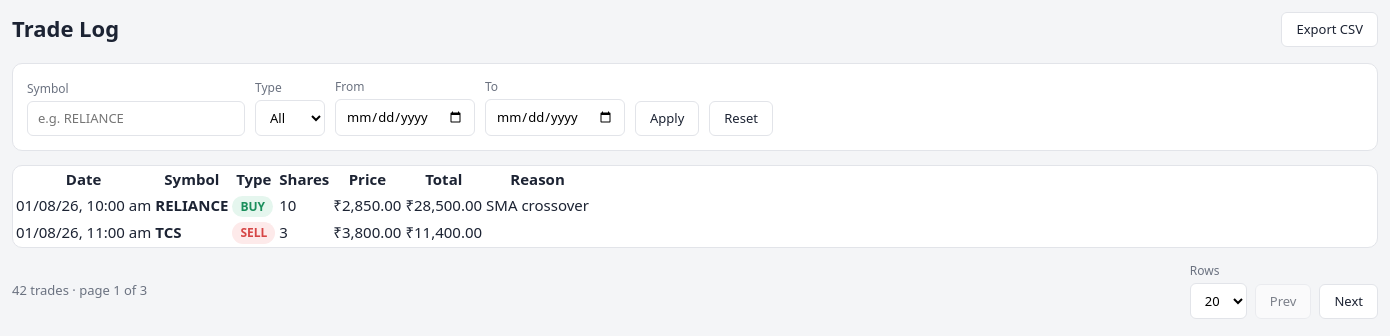
it: Trades › reset clears filters back to defaults
Expected: the text "RELIANCE" is shown, 154,194 -> 229,218
Type "TCS" into the field with test id "filter-symbol" at (136, 119), box 27,101 -> 245,136
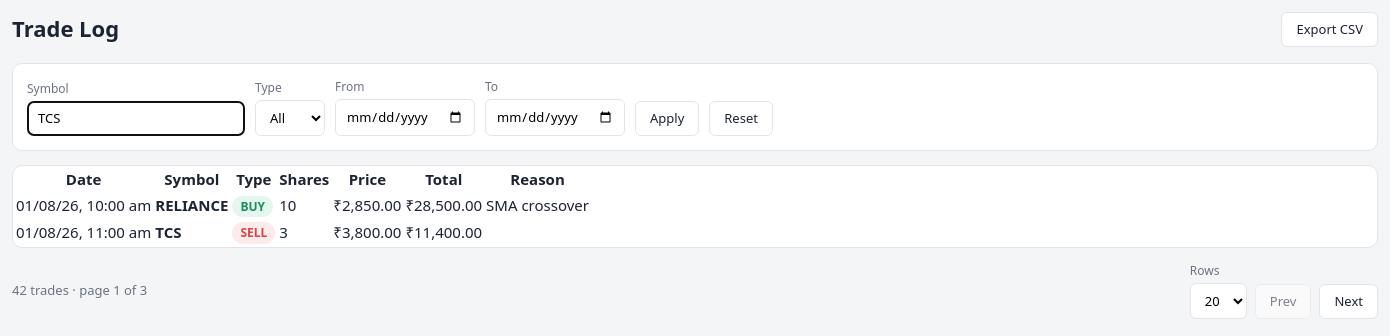
Click the button with test id "apply-filters" at (667, 119), box 635,101 -> 699,136
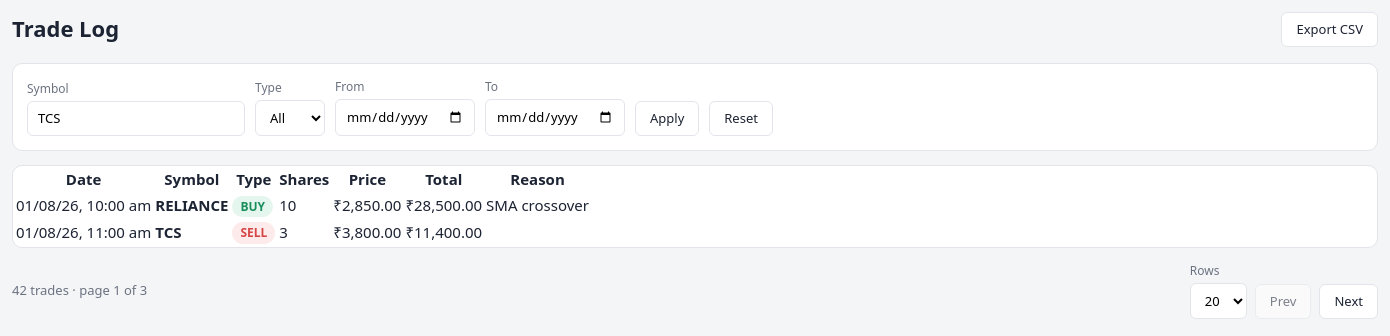
Click the button "Reset" at (741, 119), box 709,101 -> 773,136
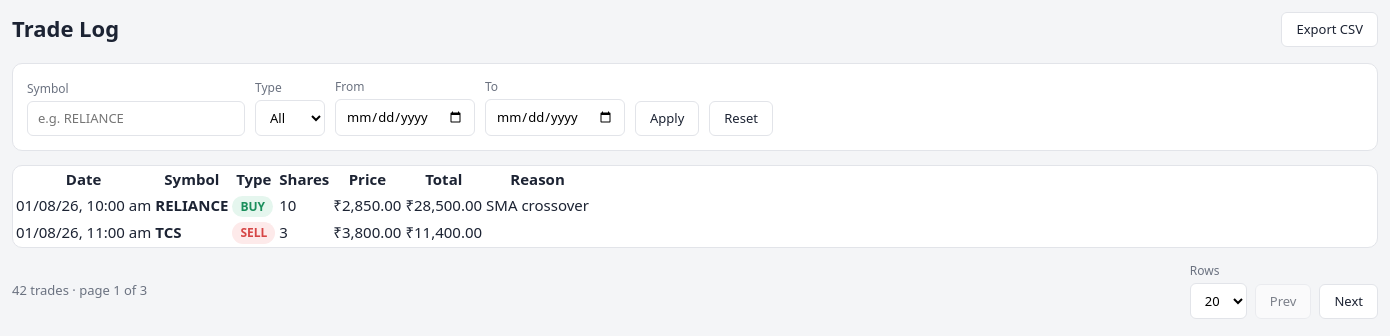
Expected: the field with test id "filter-symbol" is empty, 27,101 -> 245,136
